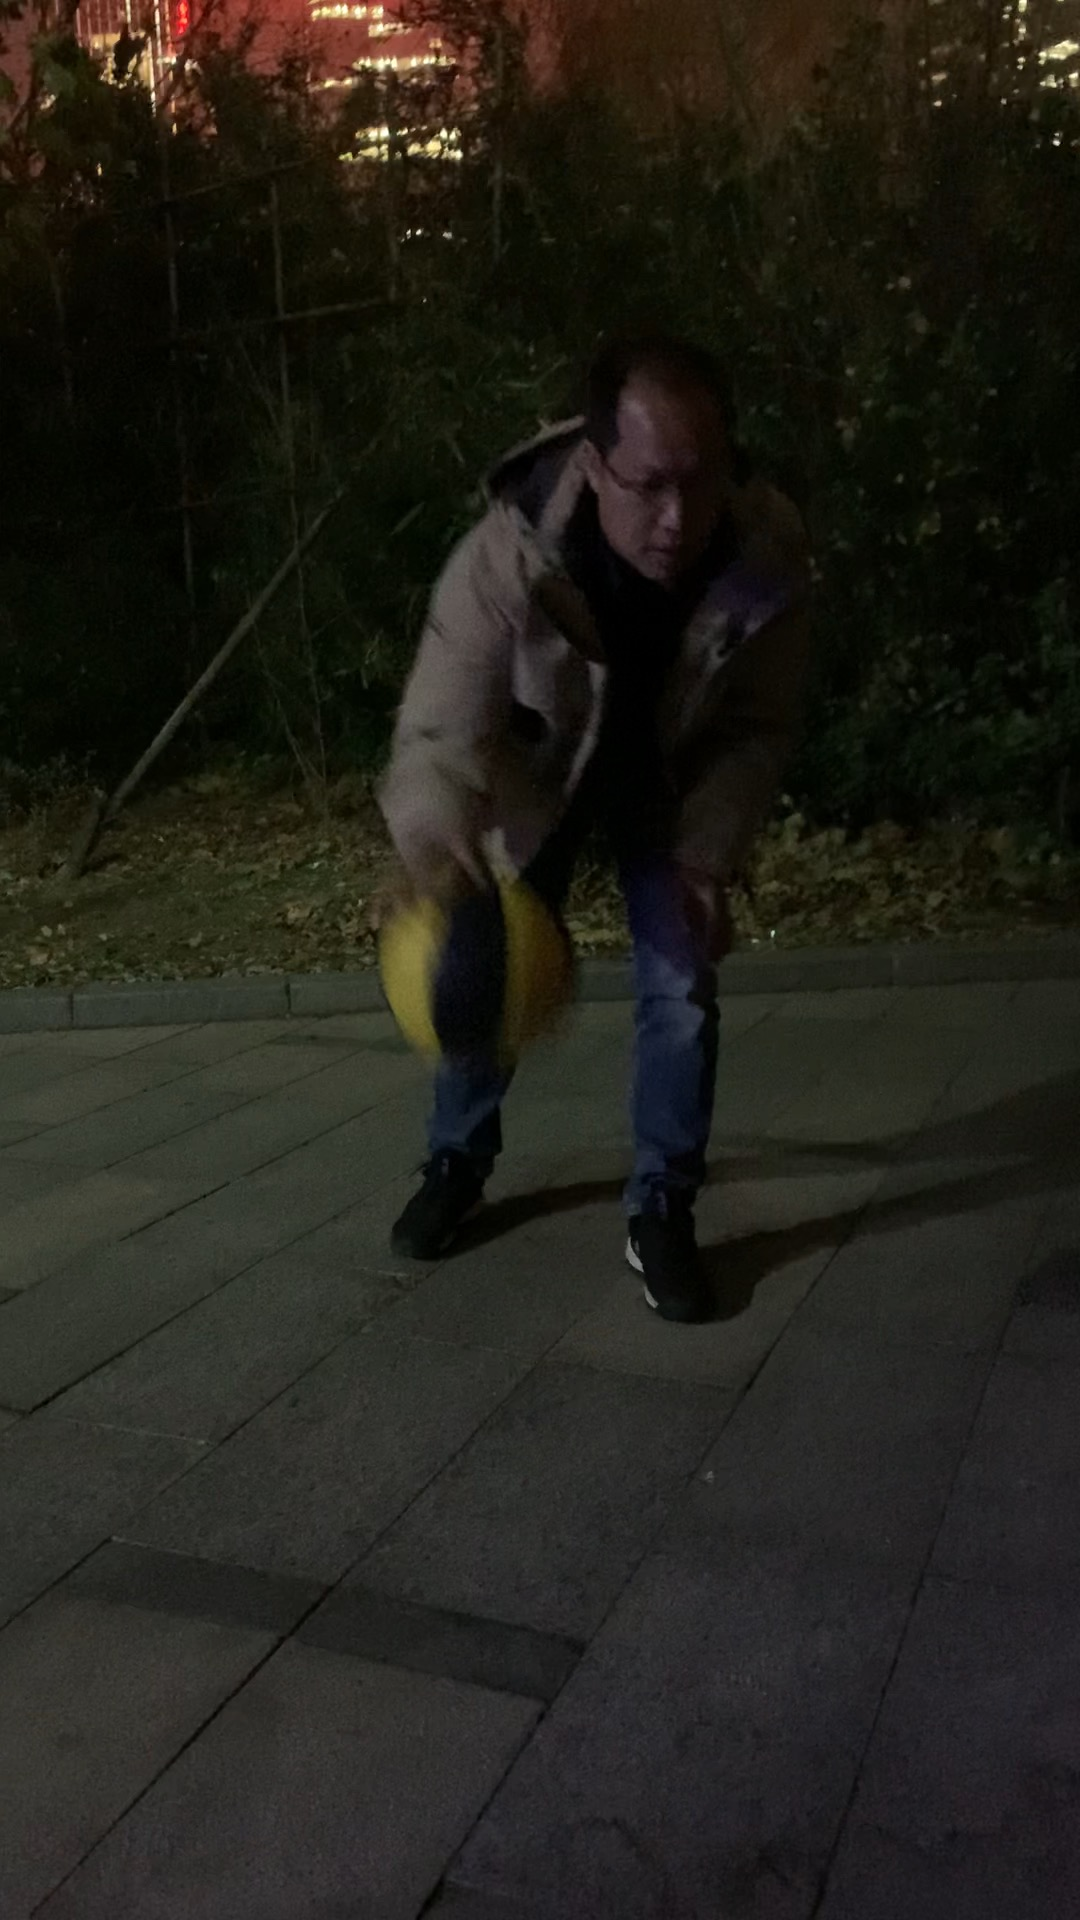ball: (375, 868, 585, 1068)
